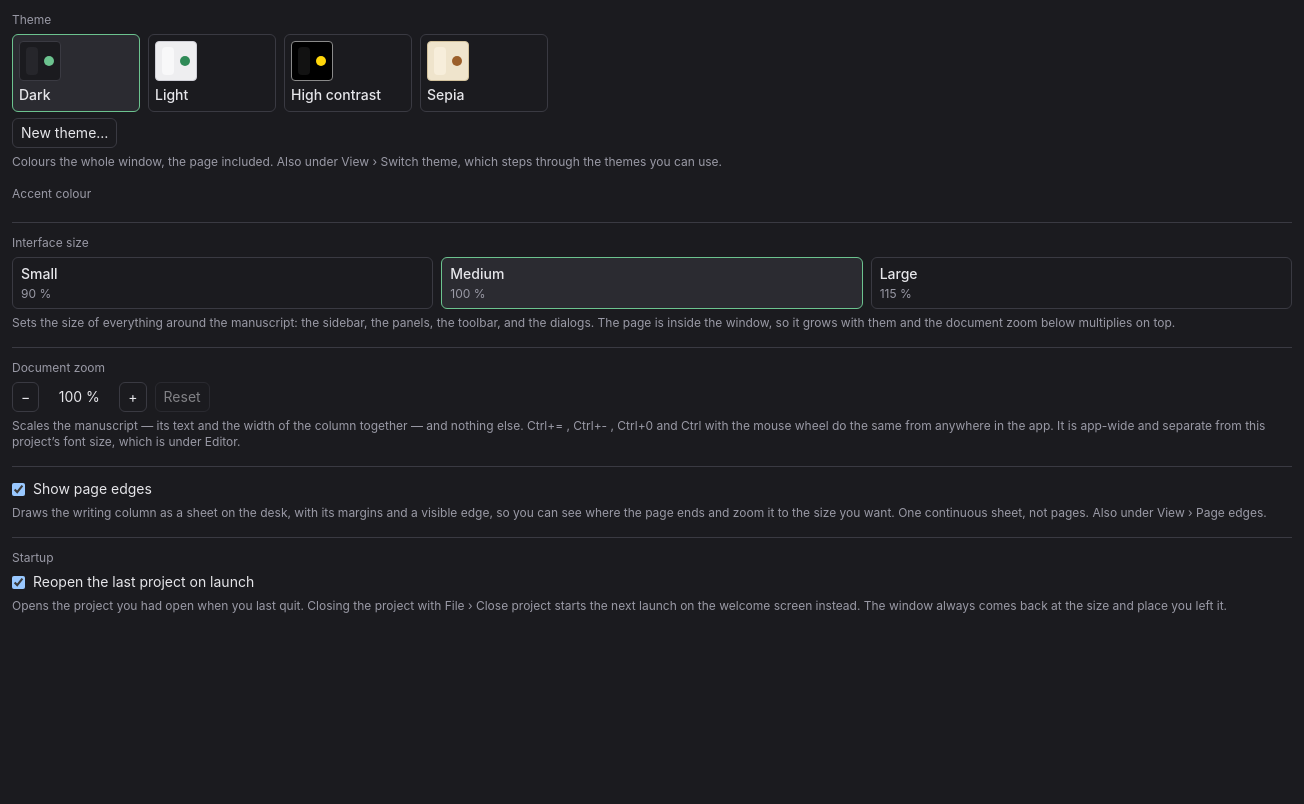
Test: AppearanceSettingsTab theme (F-7.8) › a new theme follows the base until a colour is changed; Cancel sends nothing
Click the button with test id "appearance-theme-new".
click(65, 133)  # box [12,118,117,148]
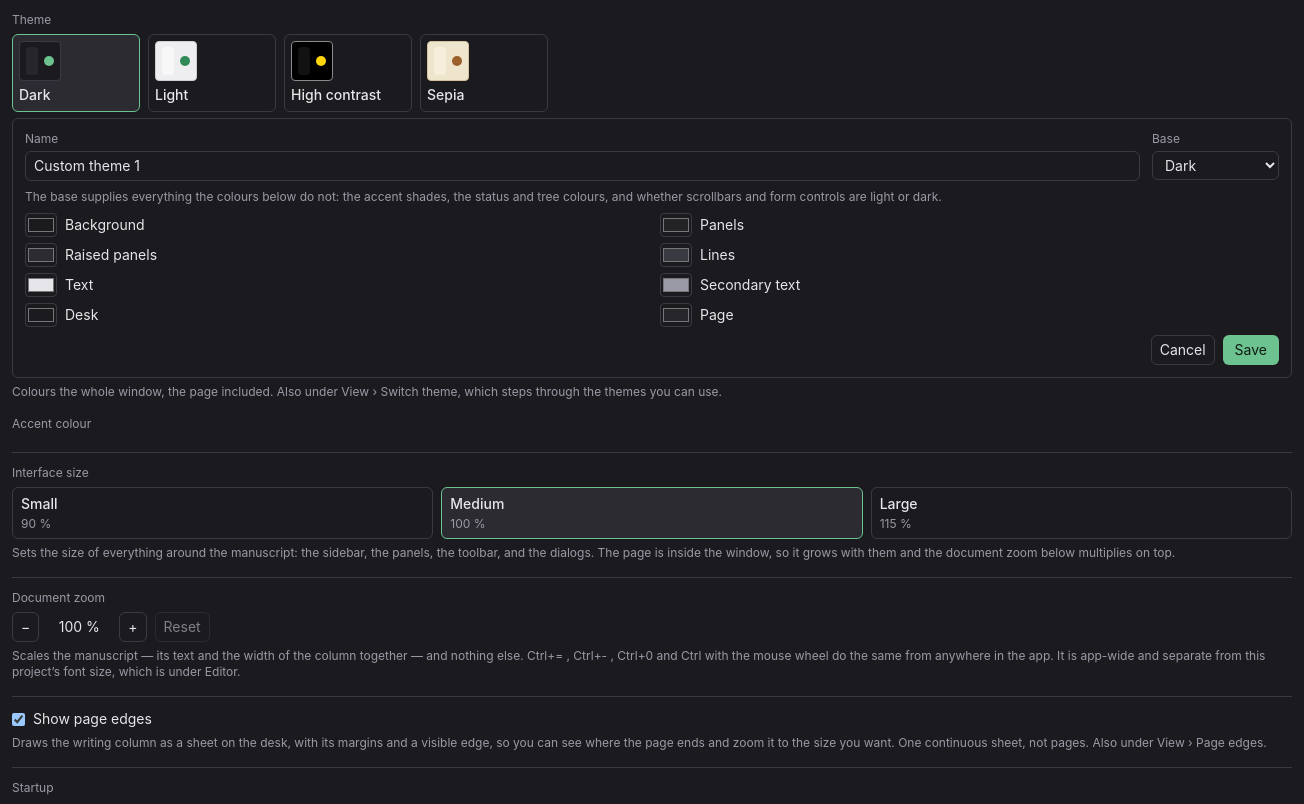
Select "Light" in the dropdown labelled "Base" at (1216, 166), box [1152,151,1279,180]
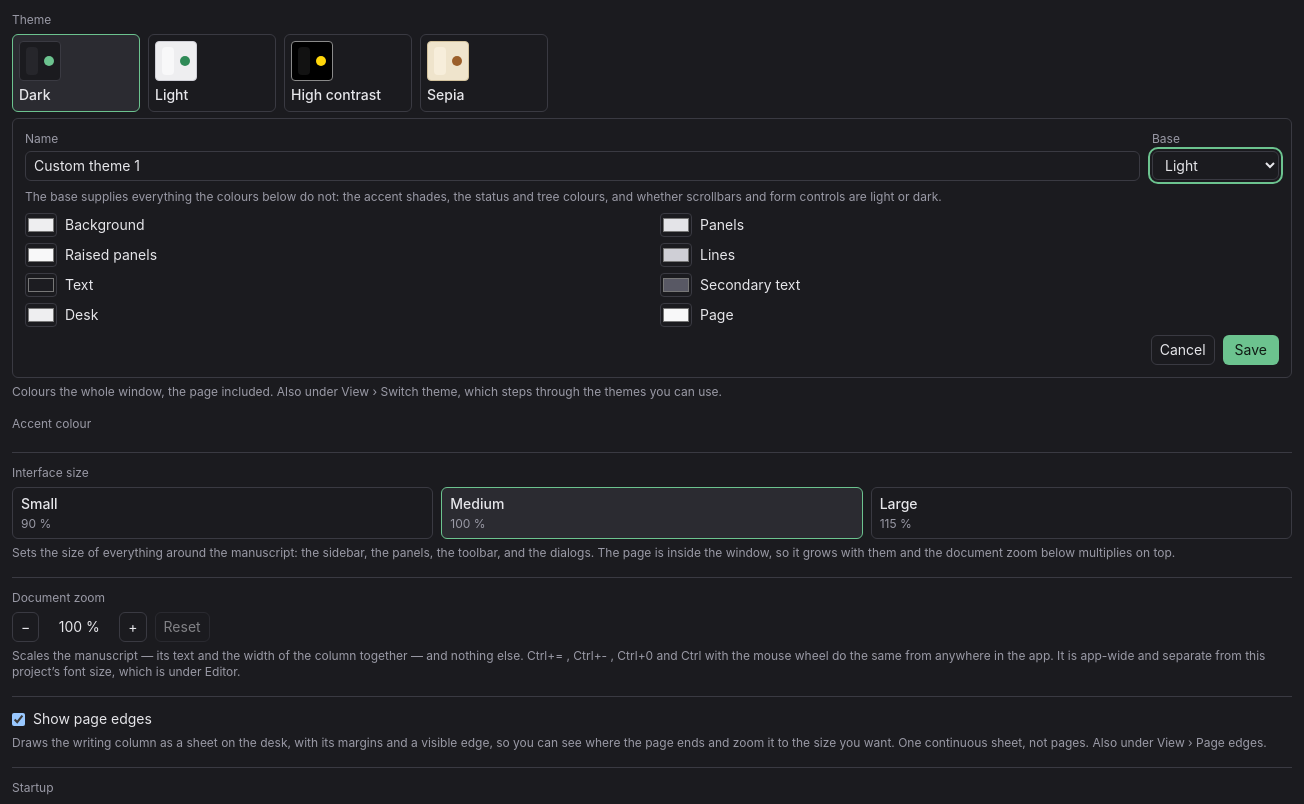
expect the colour field labelled "Text" holds "#1c1c21": met, box [25,273,57,297]
Click the button "Cancel".
click(1183, 350)  # box [1151,335,1215,365]
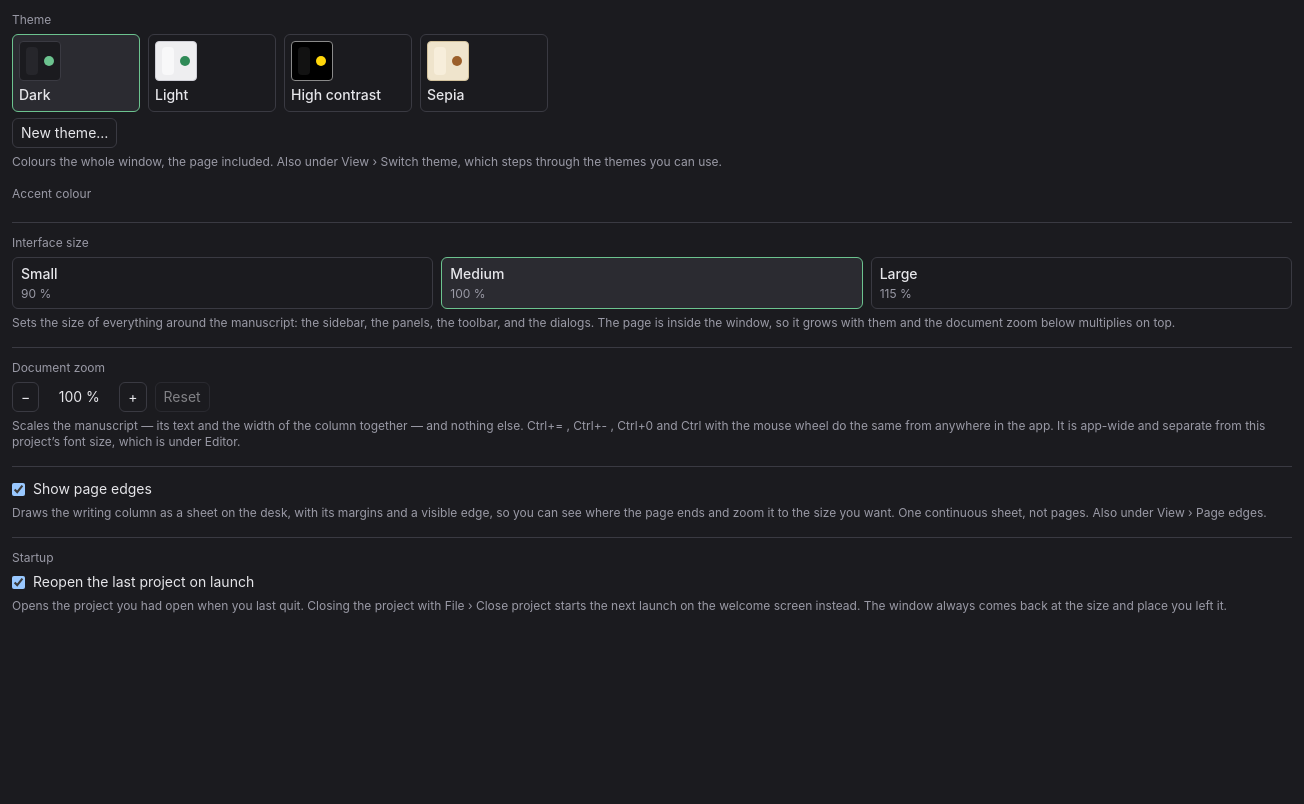
expect the form with test id "theme-editor" is gone: met
